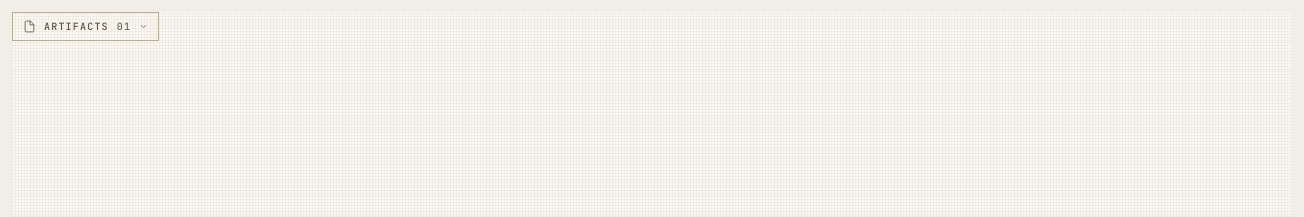
it: ArtifactsMenu › selects a ready artifact and closes the menu
Click the button titled "Artifacts" at (86, 26), box [12, 12, 159, 41]
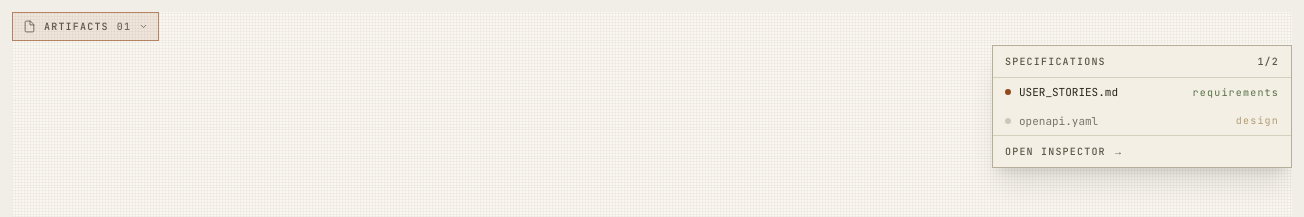
Click the text "USER_STORIES.md" at (1068, 92), box [1019, 84, 1118, 100]
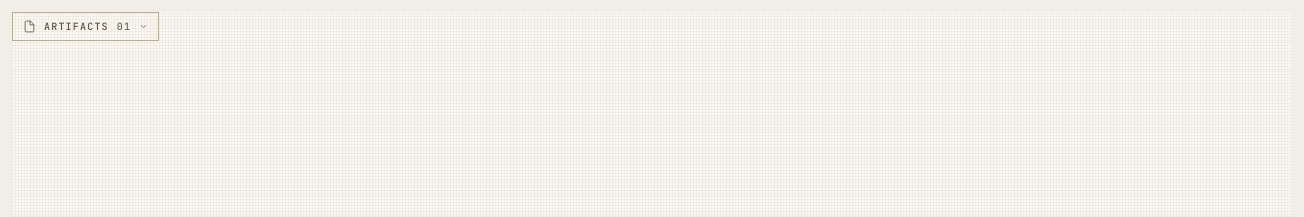
Check: the text "SPECIFICATIONS" is gone
